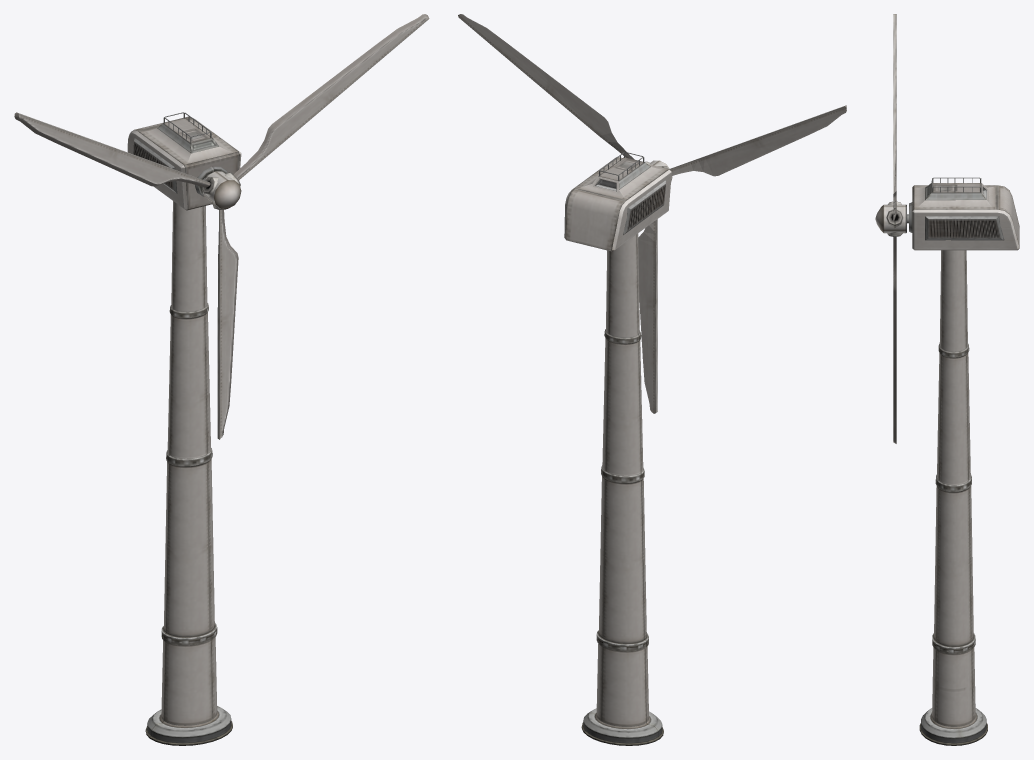
Rendered from windturbine.obj.
3 views of the same model, side by side, from view 1: azimuth 30°, elevation 25°; view 2: azimuth 150°, elevation 25°; view 3: azimuth 270°, elevation 25° (orthographic). The views are drawn at different scales.
Visible parts, largest first — view 1: Turbine_Main, Turbine_Fan; view 2: Turbine_Main, Turbine_Fan; view 3: Turbine_Main, Turbine_Fan.
Boxes of the visible parts, x1=… form: Turbine_Main: x1=127, y1=112, x2=241, y2=745; Turbine_Fan: x1=14, y1=14, x2=429, y2=439; Turbine_Main: x1=564, y1=152, x2=671, y2=745; Turbine_Fan: x1=458, y1=14, x2=846, y2=413; Turbine_Main: x1=909, y1=177, x2=1019, y2=745; Turbine_Fan: x1=875, y1=14, x2=908, y2=443.
Bounding box in the file's own units: 19.95 × 31.82 × 6.67.
Materials: 2 (2 with a texture image).
